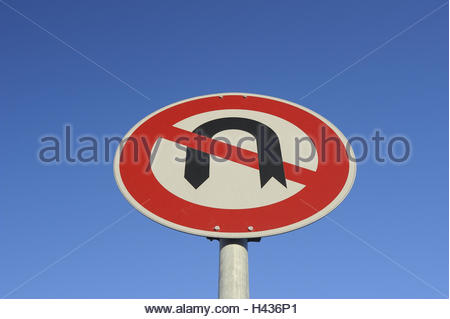No_u_turn: (114, 92, 358, 236)
